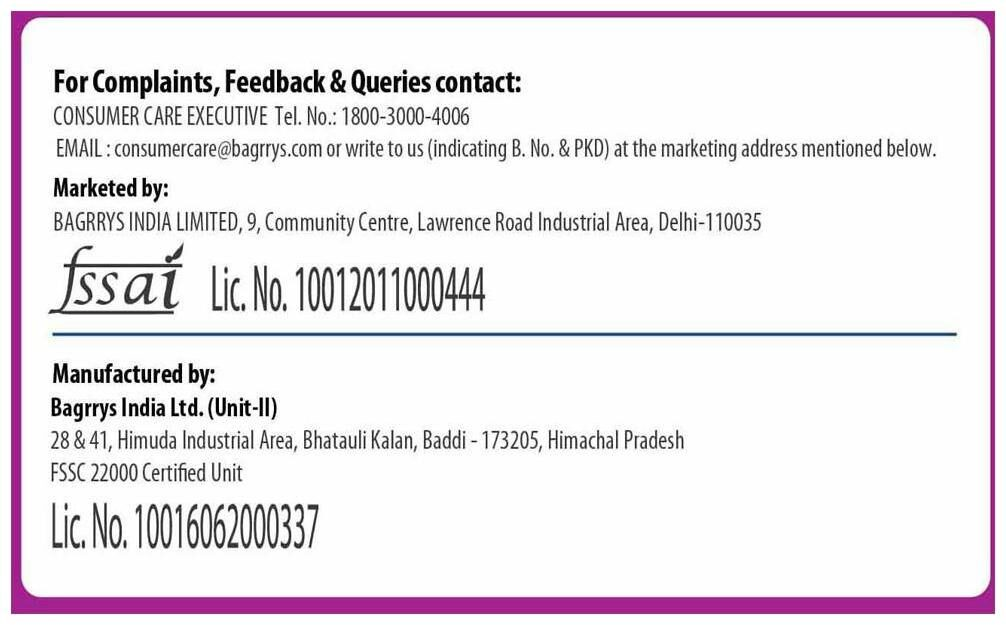fsaai: (45, 242, 186, 319)
